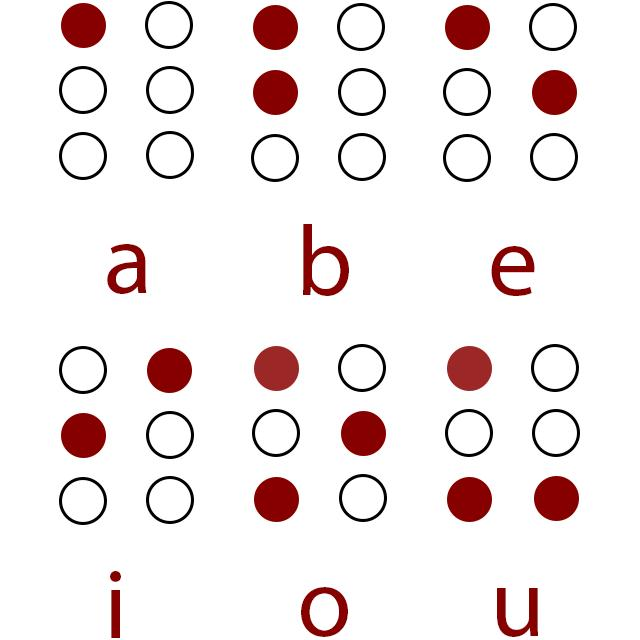A: (59, 0, 196, 183)
B: (250, 0, 389, 186)
E: (439, 0, 581, 184)
I: (58, 344, 195, 525)
O: (251, 343, 390, 524)
U: (445, 343, 582, 523)
